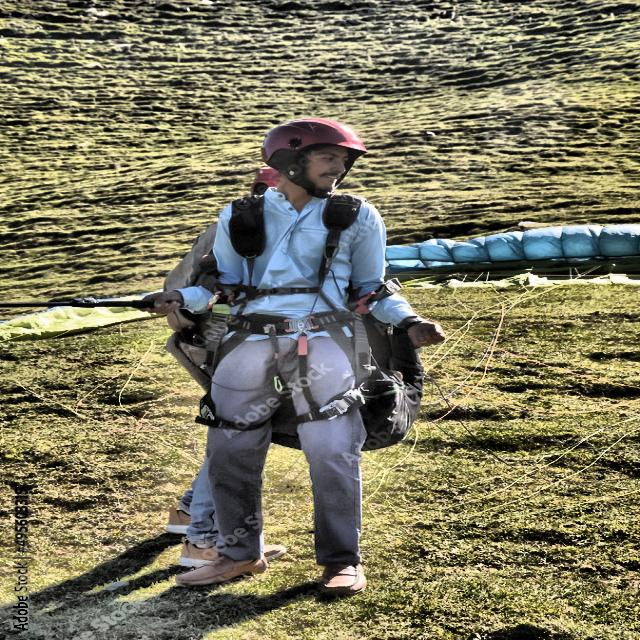Human: (128, 92, 456, 610)
